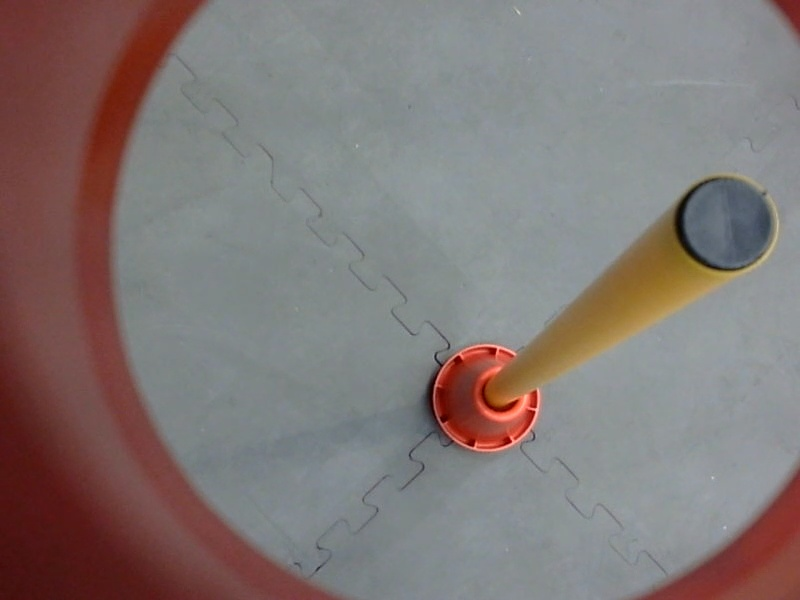tip: (668, 164, 785, 285)
